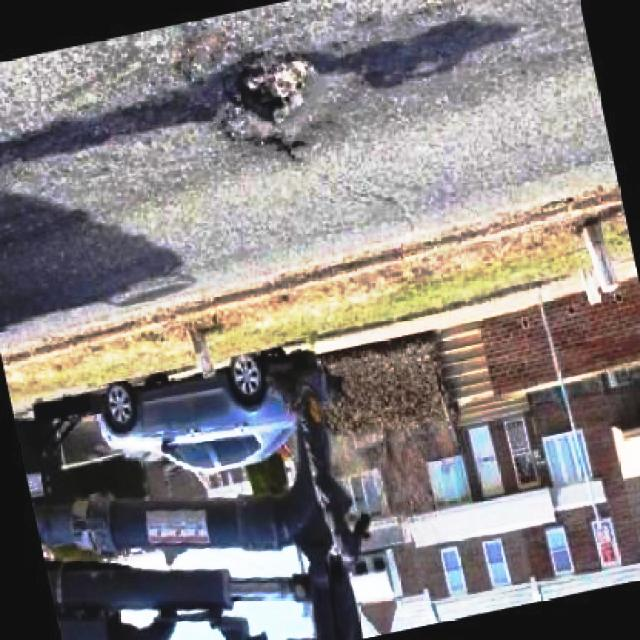pothole: (232, 45, 311, 122)
